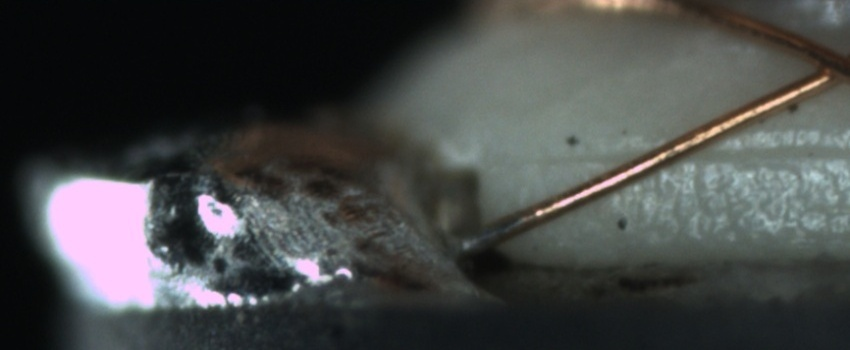CL: (794, 36, 849, 90)
DL: (520, 129, 850, 184)
